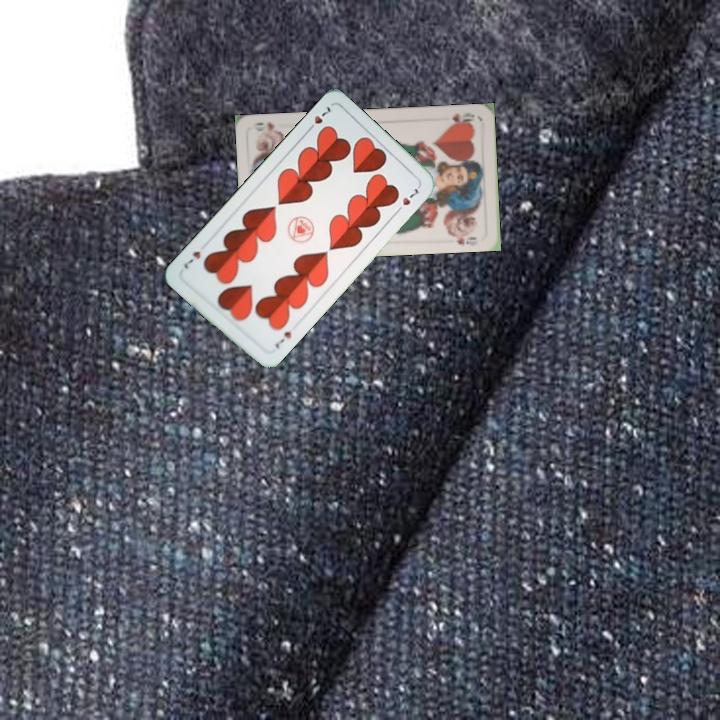H7: (303, 102, 333, 135), (271, 327, 294, 351)
HO: (445, 109, 477, 127)
